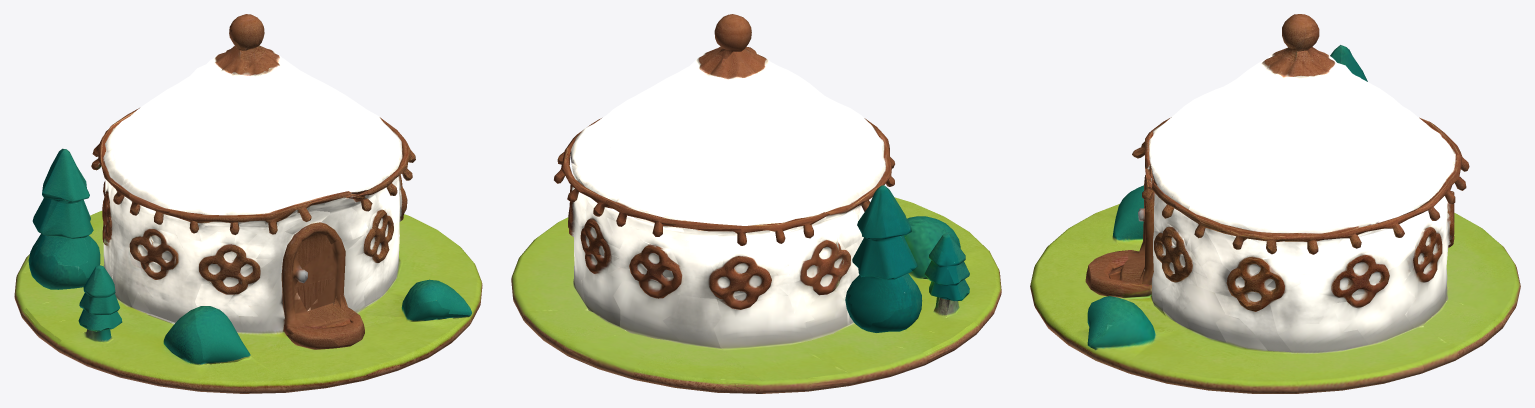
The model's file is s1_quality_yurt.glb.
3 views of the same model, side by side, from view 1: azimuth 30°, elevation 25°; view 2: azimuth 150°, elevation 25°; view 3: azimuth 270°, elevation 25° (orthographic). The views are drawn at different scales.
Size of the model in its own units: 1.9 by 1.21 by 1.91.
Materials: 1 (1 with a texture image).
